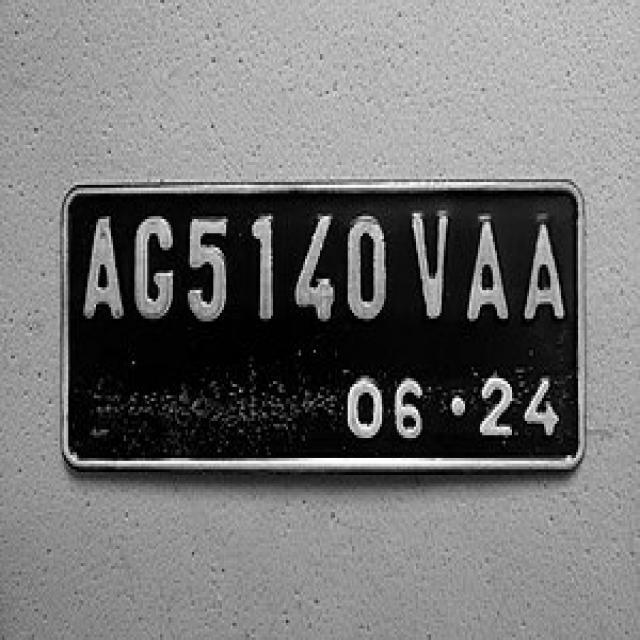clone-license-plate: (66, 189, 581, 464)
